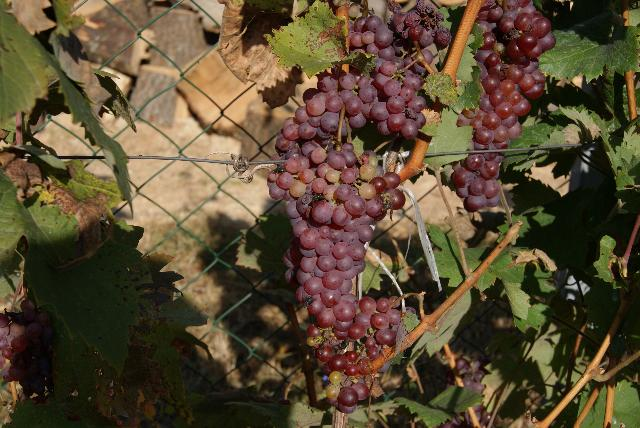grapes: (268, 119, 405, 312), (456, 0, 556, 151), (282, 45, 426, 141), (308, 295, 412, 411), (451, 152, 505, 211)
